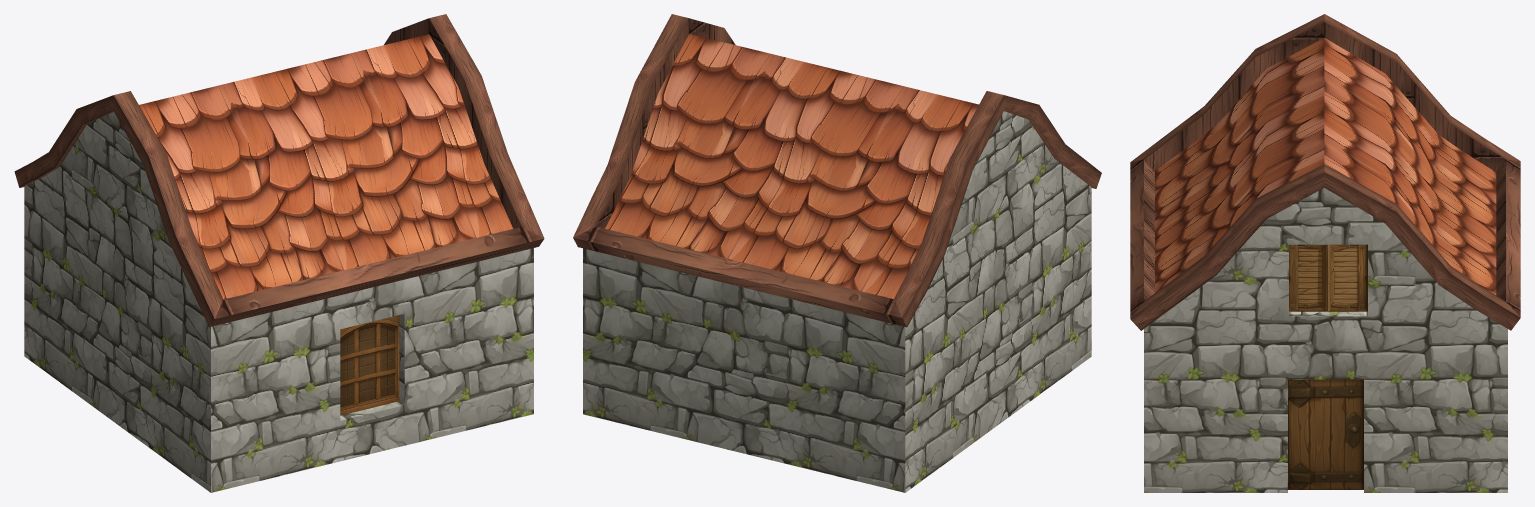
The model's file is House.fbx.
The picture shows the model from 3 angles, left to right: view 1: azimuth 30°, elevation 25°; view 2: azimuth 150°, elevation 25°; view 3: azimuth 270°, elevation 25°; orthographic projection. The views are drawn at different scales.
Parts seen in each view (by area): view 1: Cube; view 2: Cube; view 3: Cube.
Part boxes in pixels (left/top/right/bottom): Cube: left=14, top=14, right=544, bottom=492; Cube: left=573, top=14, right=1101, bottom=492; Cube: left=1130, top=14, right=1520, bottom=492.
Size of the model in its own units: 206 by 196 by 215.
